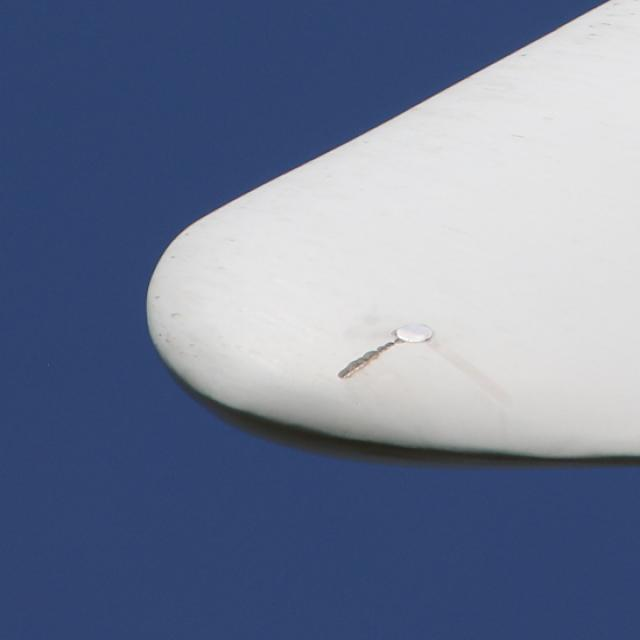Crack: (337, 336, 398, 382)
